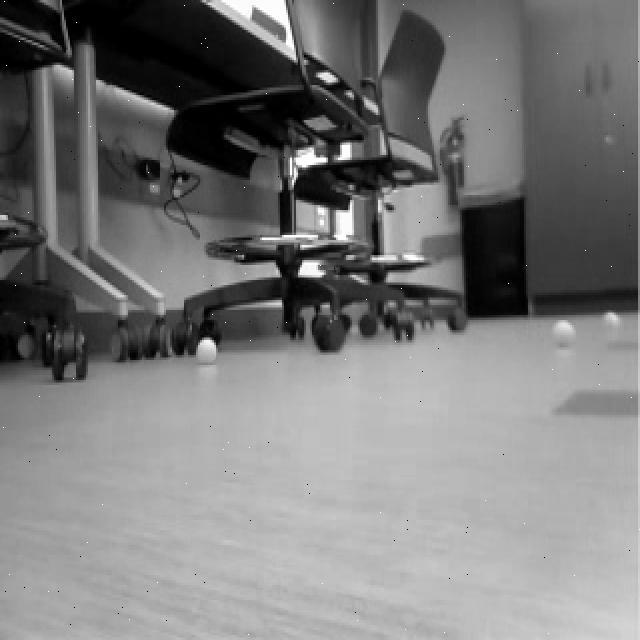ping-pong-ball: (548, 314, 576, 352), (196, 339, 221, 372), (604, 308, 620, 332)
